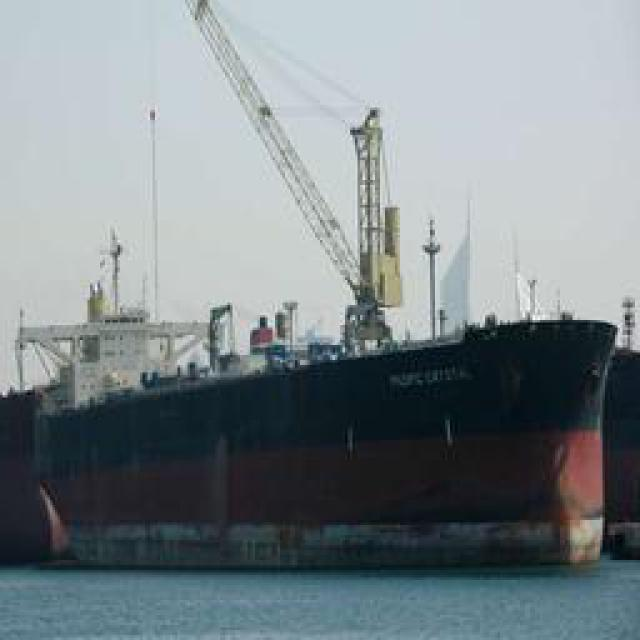Ship: (3, 1, 624, 580)
